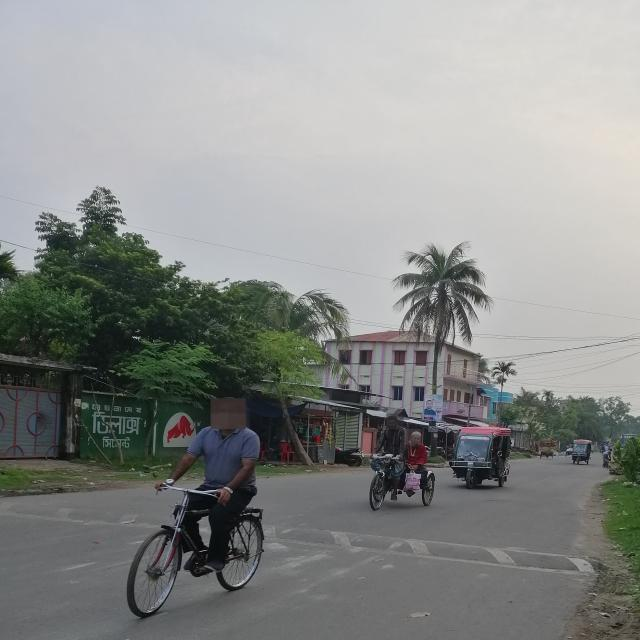Bicycle: (114, 474, 282, 632)
